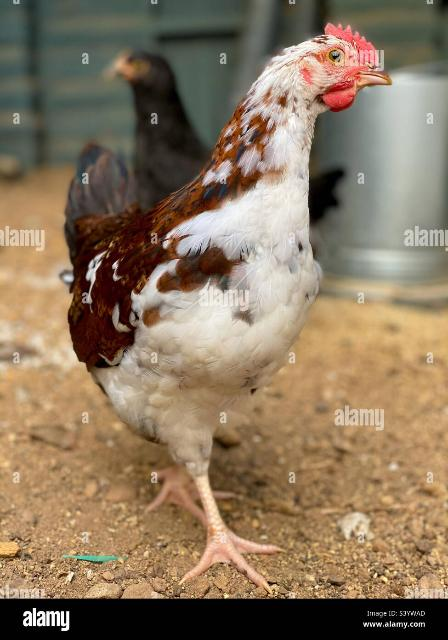Chicken: (64, 17, 390, 594)
